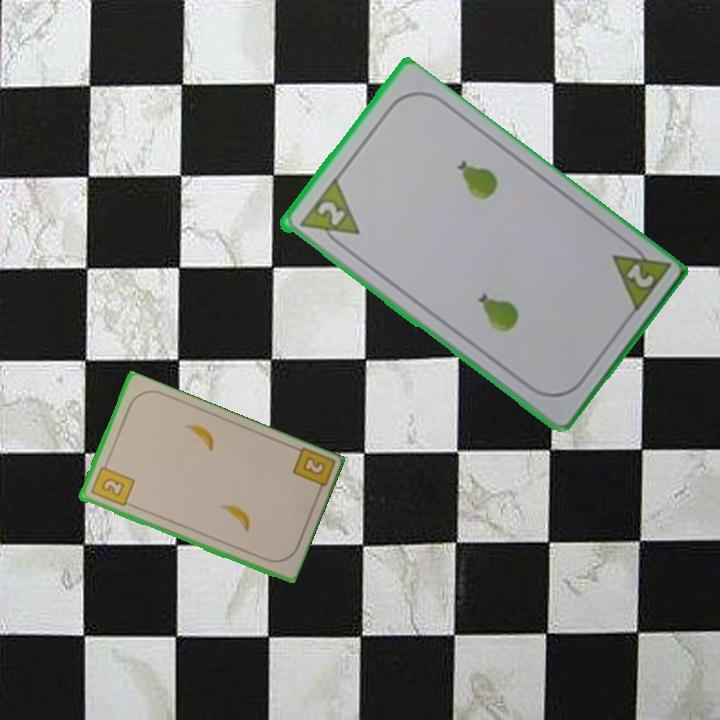2b: (87, 458, 137, 510), (289, 445, 335, 499)
2p: (312, 197, 348, 229), (622, 259, 656, 291)
